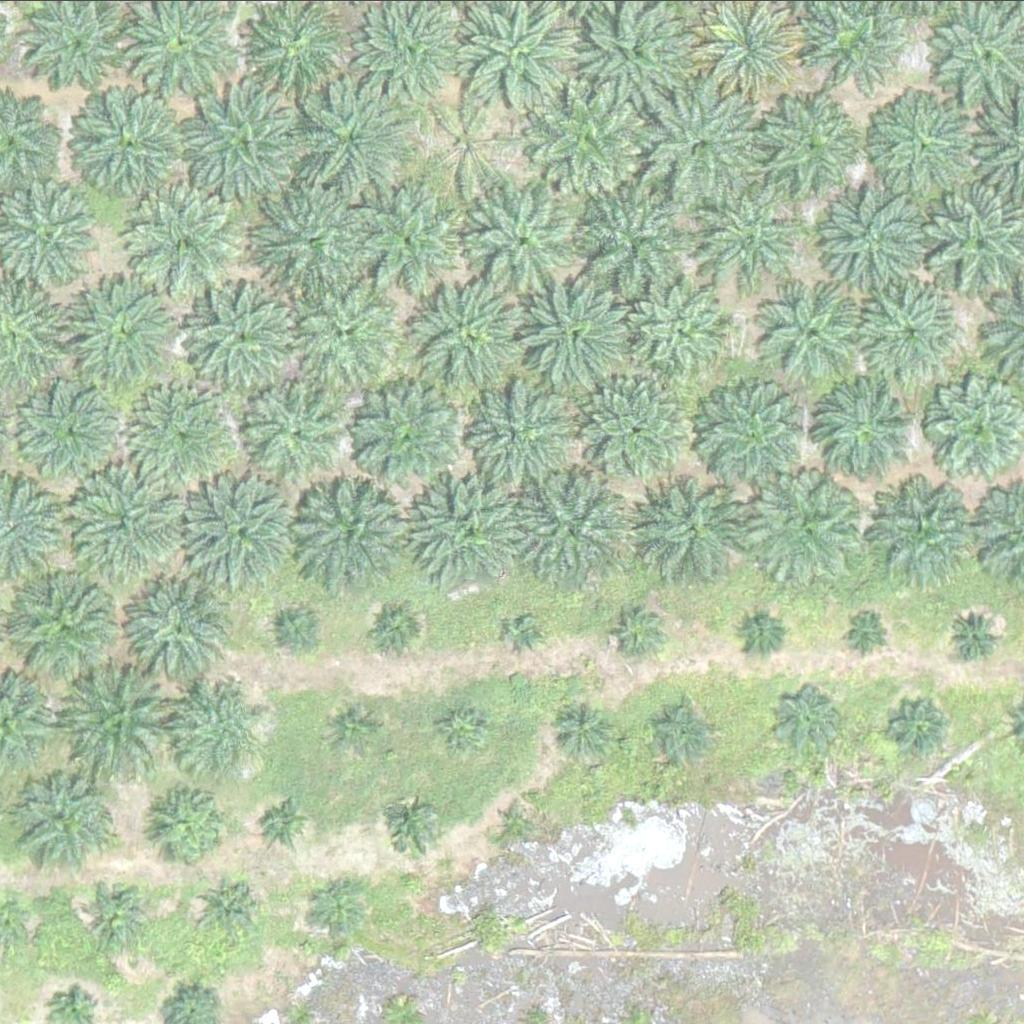Kelapa_Sawit: (66, 263, 192, 388), (174, 278, 300, 403), (68, 461, 182, 574), (754, 468, 868, 581), (69, 85, 182, 198), (124, 575, 237, 688), (413, 471, 526, 584), (515, 470, 628, 583), (630, 470, 743, 583), (124, 383, 237, 496), (285, 274, 398, 387), (578, 187, 691, 300), (470, 179, 583, 292), (353, 183, 466, 296), (255, 189, 368, 302), (531, 83, 644, 196), (649, 87, 762, 200), (754, 91, 867, 204), (699, 378, 812, 491), (12, 570, 126, 682), (68, 662, 182, 774), (124, 184, 238, 296), (184, 84, 298, 196), (873, 476, 987, 588), (190, 474, 303, 586), (302, 474, 415, 586), (351, 377, 464, 489), (236, 370, 349, 482), (409, 272, 522, 384), (516, 276, 629, 388), (296, 82, 409, 194), (694, 180, 807, 292), (418, 93, 519, 193), (29, 383, 130, 483), (582, 373, 683, 473), (468, 377, 569, 477), (636, 276, 737, 376), (874, 94, 975, 194), (819, 187, 920, 287), (768, 279, 869, 379), (25, 774, 125, 874), (861, 278, 961, 378), (815, 374, 915, 474), (148, 785, 236, 872), (175, 685, 263, 772), (767, 679, 842, 754), (200, 874, 263, 937), (894, 695, 957, 758), (944, 605, 1007, 668), (90, 881, 153, 943), (554, 696, 617, 758), (651, 697, 714, 759), (252, 787, 315, 849), (611, 606, 662, 656), (735, 610, 786, 660), (319, 880, 369, 930), (383, 804, 433, 854), (439, 702, 489, 752), (330, 701, 380, 751), (843, 606, 893, 656), (271, 604, 321, 654), (374, 603, 424, 653), (497, 799, 535, 837), (506, 616, 544, 654)
